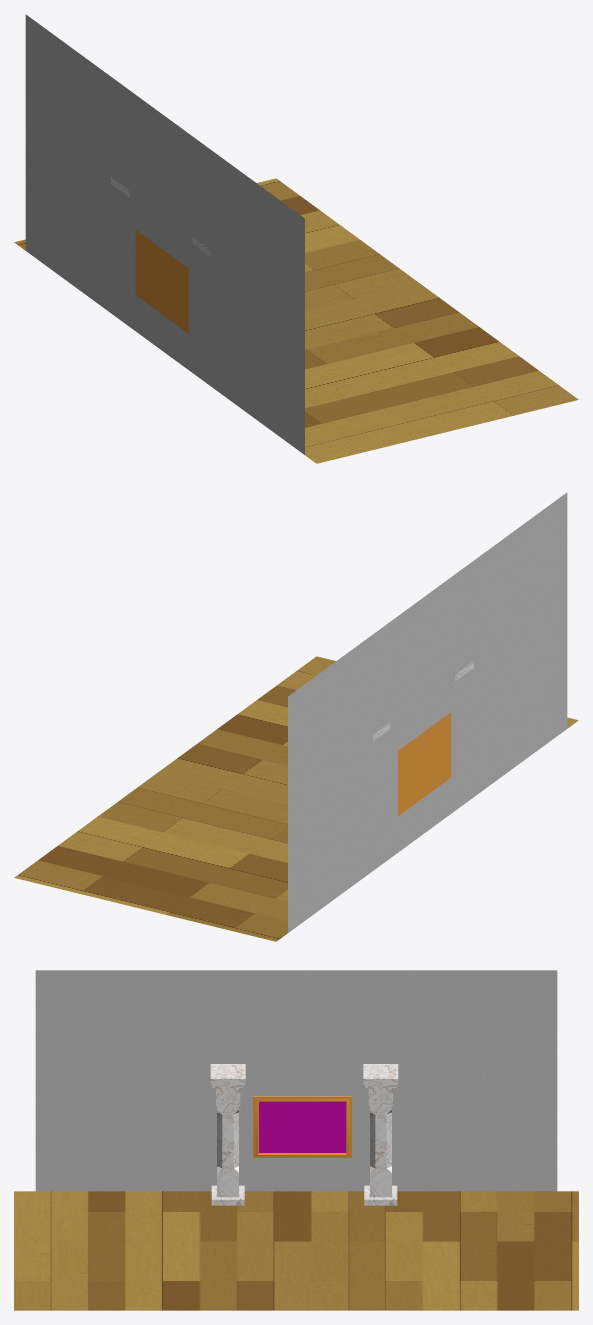
Rendered from gallery_scene.glb.
3 renders of one model, top to bottom at view 1: azimuth 30°, elevation 25°; view 2: azimuth 150°, elevation 25°; view 3: azimuth 270°, elevation 25°, orthographic. The views are drawn at different scales.
Parts seen in each view (by area): view 1: wall, floor, painting_frame_01; view 2: wall, floor, painting_frame_01; view 3: wall, floor, canvas, pagoda_pillar, pagoda_pillar.001, painting_frame_01.
Part boxes in pixels (x1,y1,x2,y2): wall: (25, 14, 304, 454); floor: (14, 178, 578, 463); painting_frame_01: (135, 230, 188, 333); wall: (288, 492, 567, 932); floor: (14, 656, 578, 941); painting_frame_01: (398, 712, 450, 815); wall: (35, 970, 557, 1191); floor: (14, 1191, 578, 1310); canvas: (259, 1101, 345, 1152); pagoda_pillar: (210, 1064, 245, 1205); pagoda_pillar.001: (363, 1064, 398, 1205); painting_frame_01: (253, 1096, 351, 1157).
Size of the model in its own units: 4.02 by 3.47 by 8.04.
5 materials, 4 textured.
